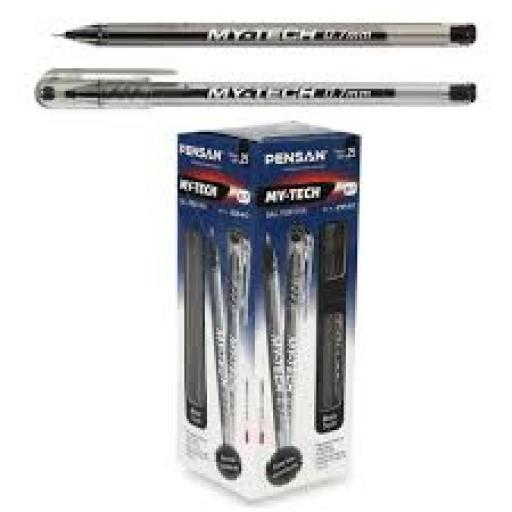tukenmez-kalem: (24, 10, 505, 122)
